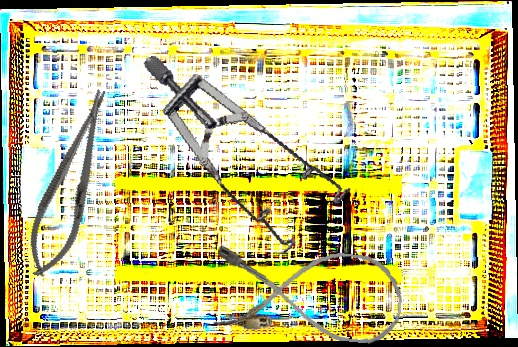Cannula: (209, 240, 407, 347)
Needle Holder: (16, 83, 126, 284)
Speculum: (141, 19, 363, 275)
